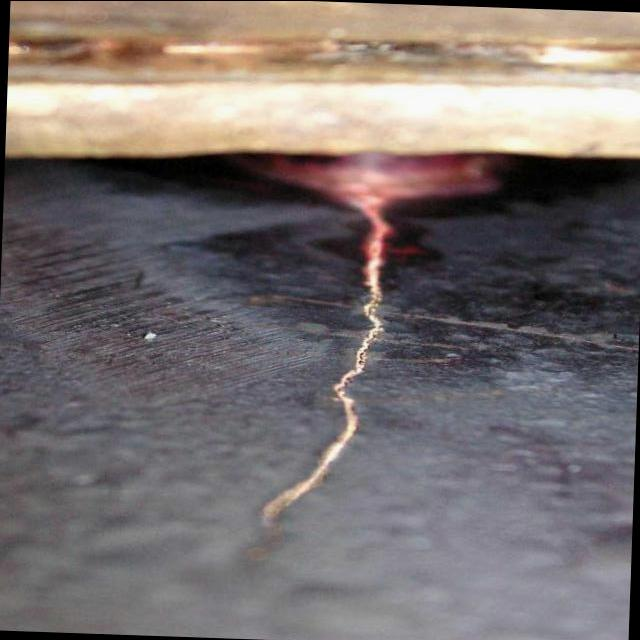defect: (242, 191, 399, 563)
